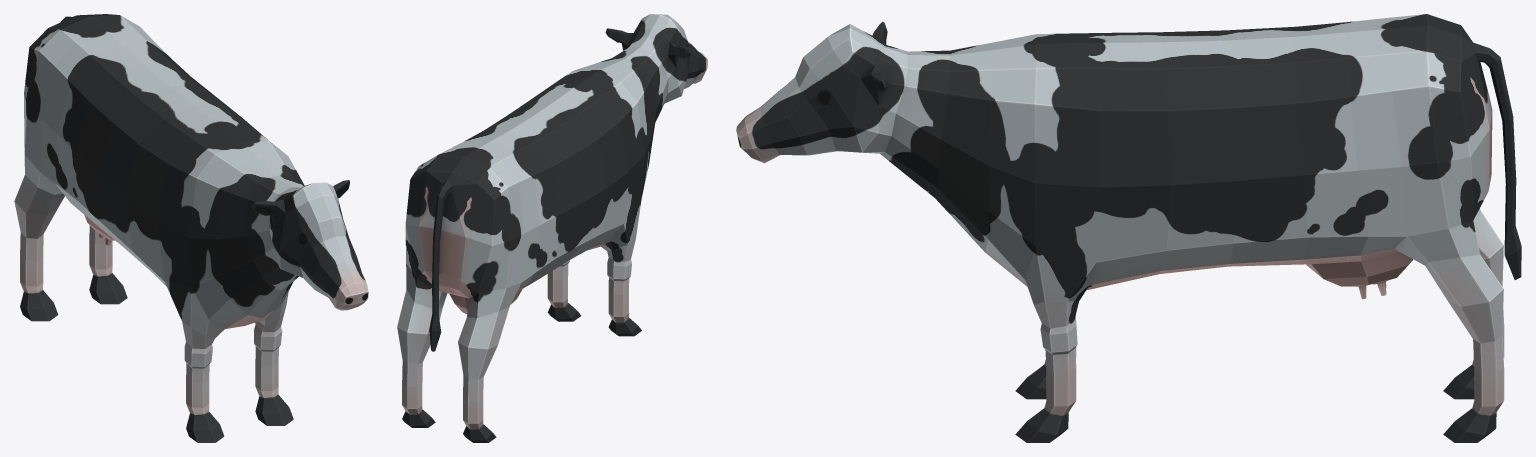
Rendered from Cow_Friesian.obj.
3 renders of one model, left to right at view 1: azimuth 30°, elevation 25°; view 2: azimuth 150°, elevation 25°; view 3: azimuth 270°, elevation 25°, orthographic. The views are drawn at different scales.
Parts seen in each view (by area): view 1: Cow_mesh; view 2: Cow_mesh; view 3: Cow_mesh.
Boxes of the visible parts, bbox=[...] form: Cow_mesh: bbox=[14, 14, 368, 442]; Cow_mesh: bbox=[397, 14, 707, 442]; Cow_mesh: bbox=[736, 14, 1521, 442].
Bounding box in the file's own units: 3.36 × 7.42 × 13.65.
Materials: 1 (1 with a texture image).
